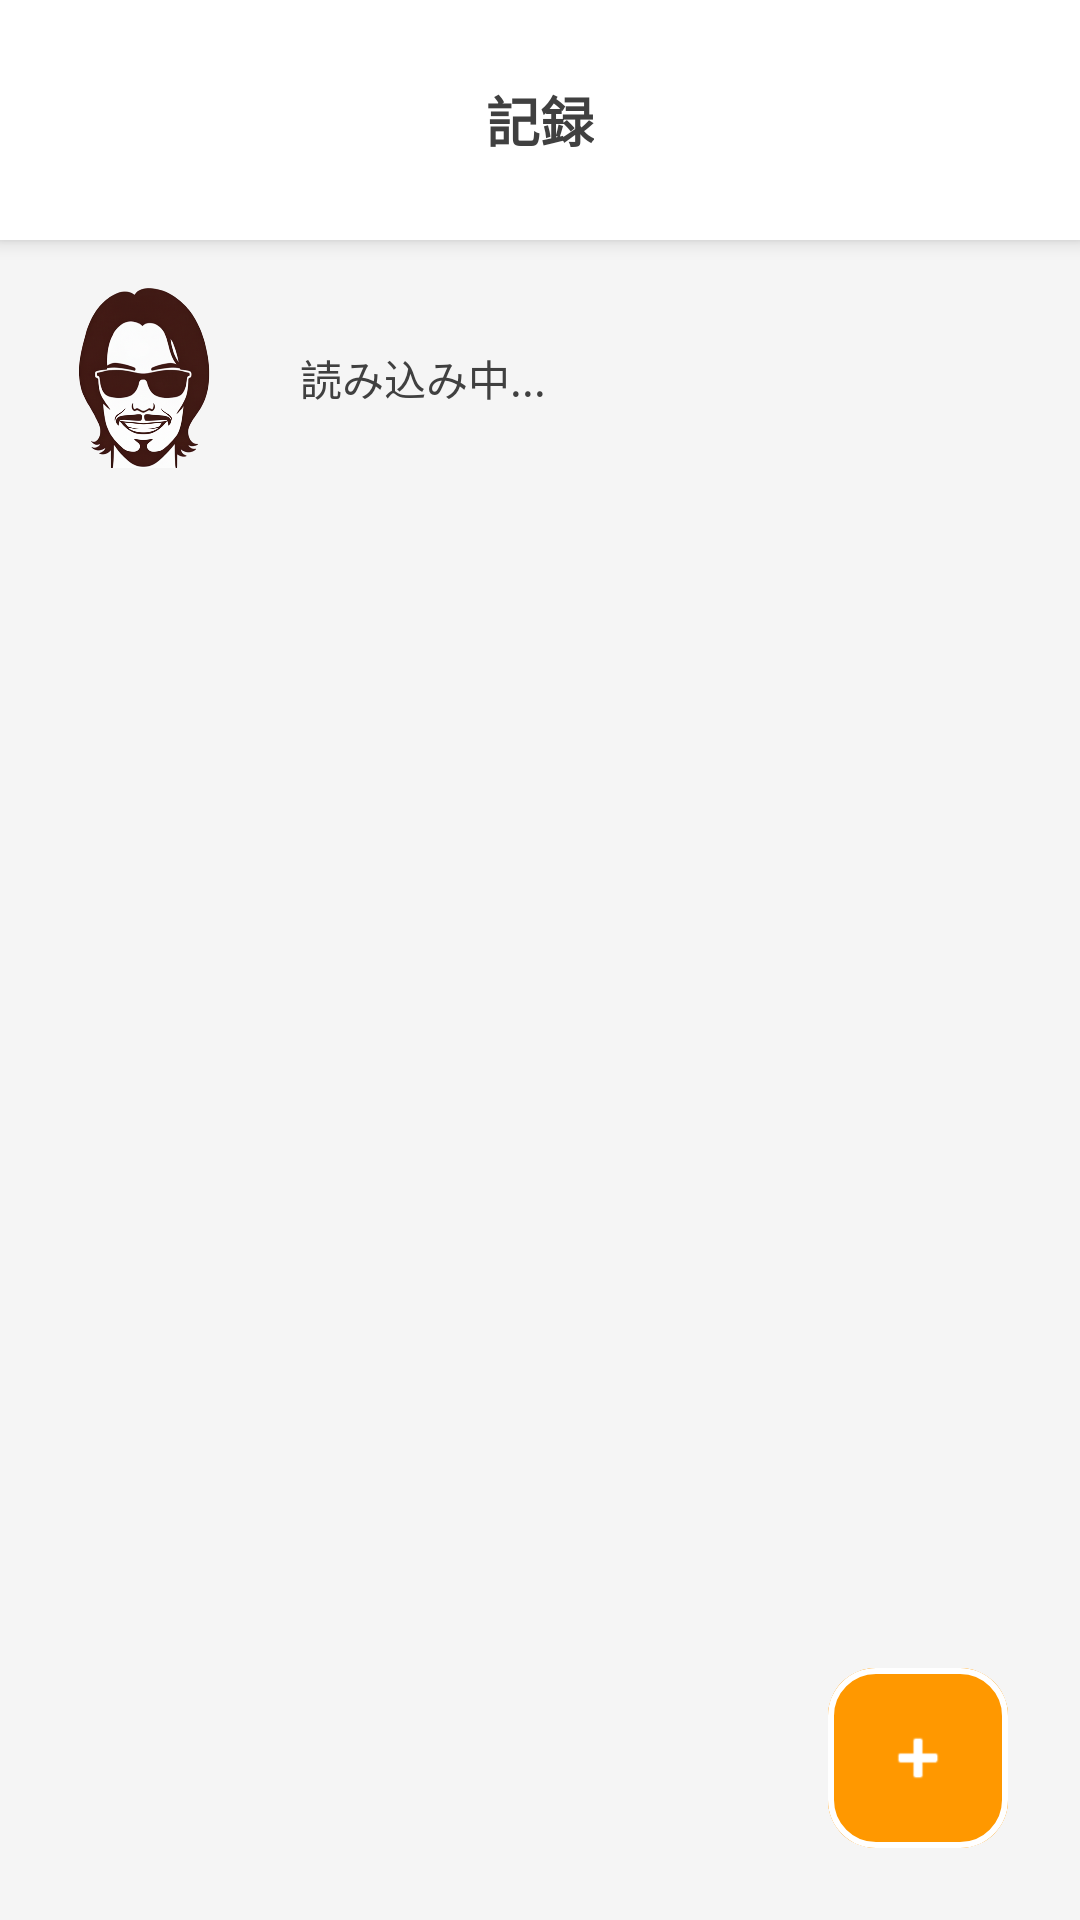

Screen size 1080x1920. Icon name, then its box in pixels as bbox=[x1, y1, x2, y2]:
add: bbox=[828, 1668, 1008, 1848]
